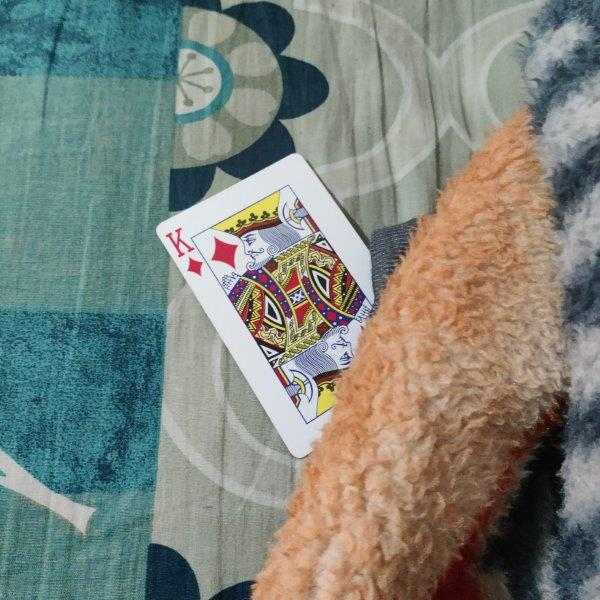King of Diamonds: (155, 152, 375, 459)
